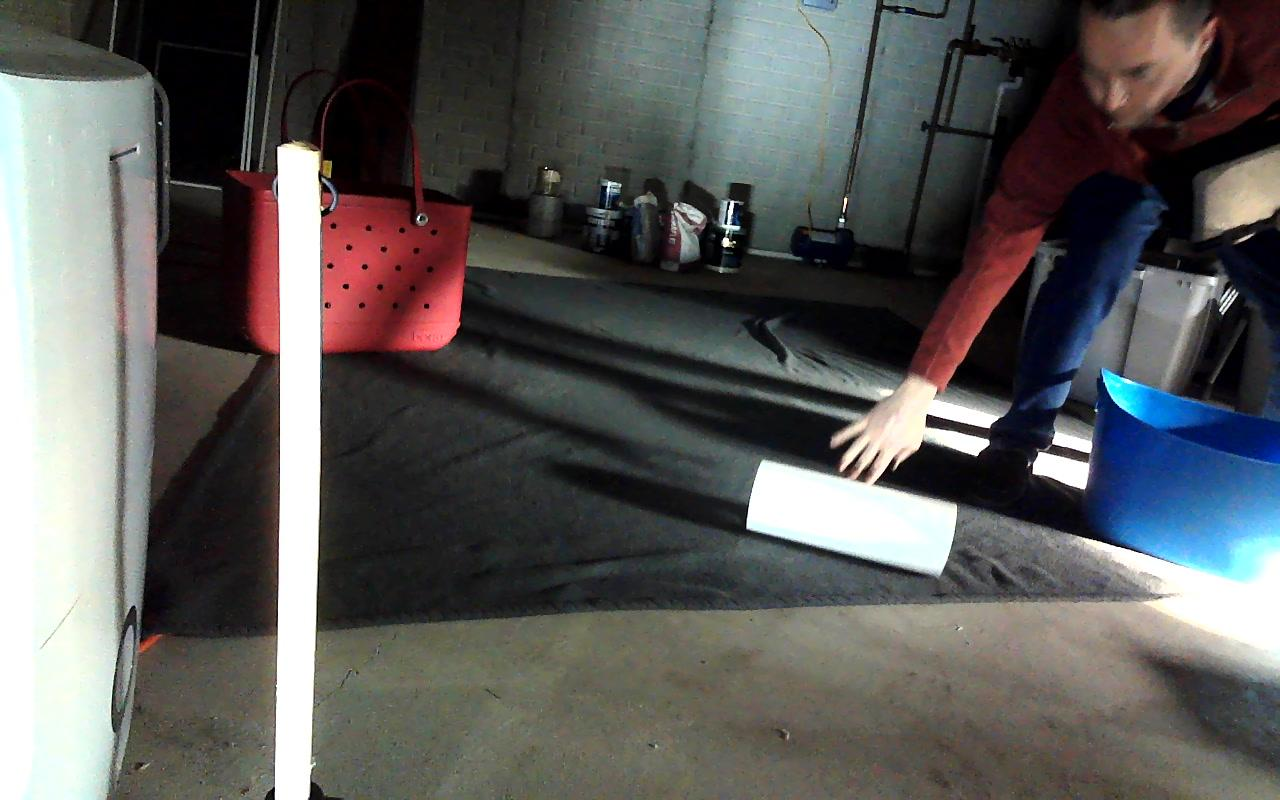coral: (746, 459, 955, 574)
